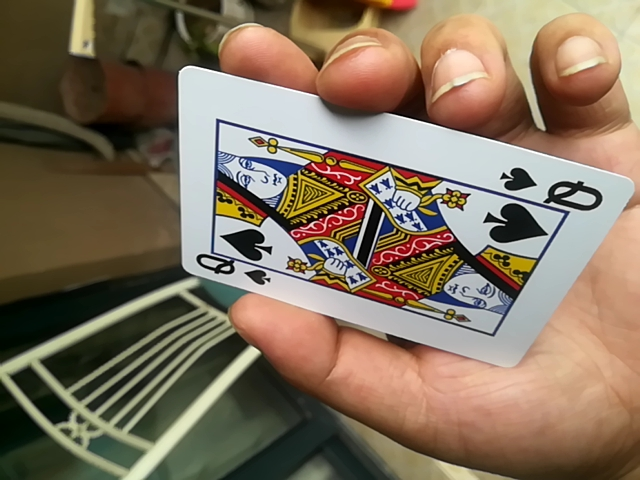ht q: (173, 60, 640, 370)
